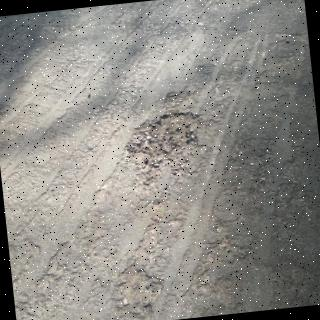pothole: (127, 111, 201, 188), (165, 86, 196, 111)
